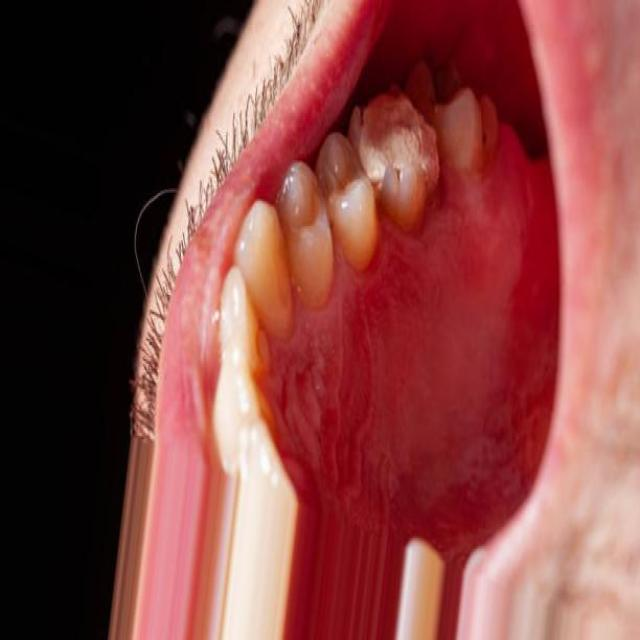caries: (352, 86, 423, 170)
